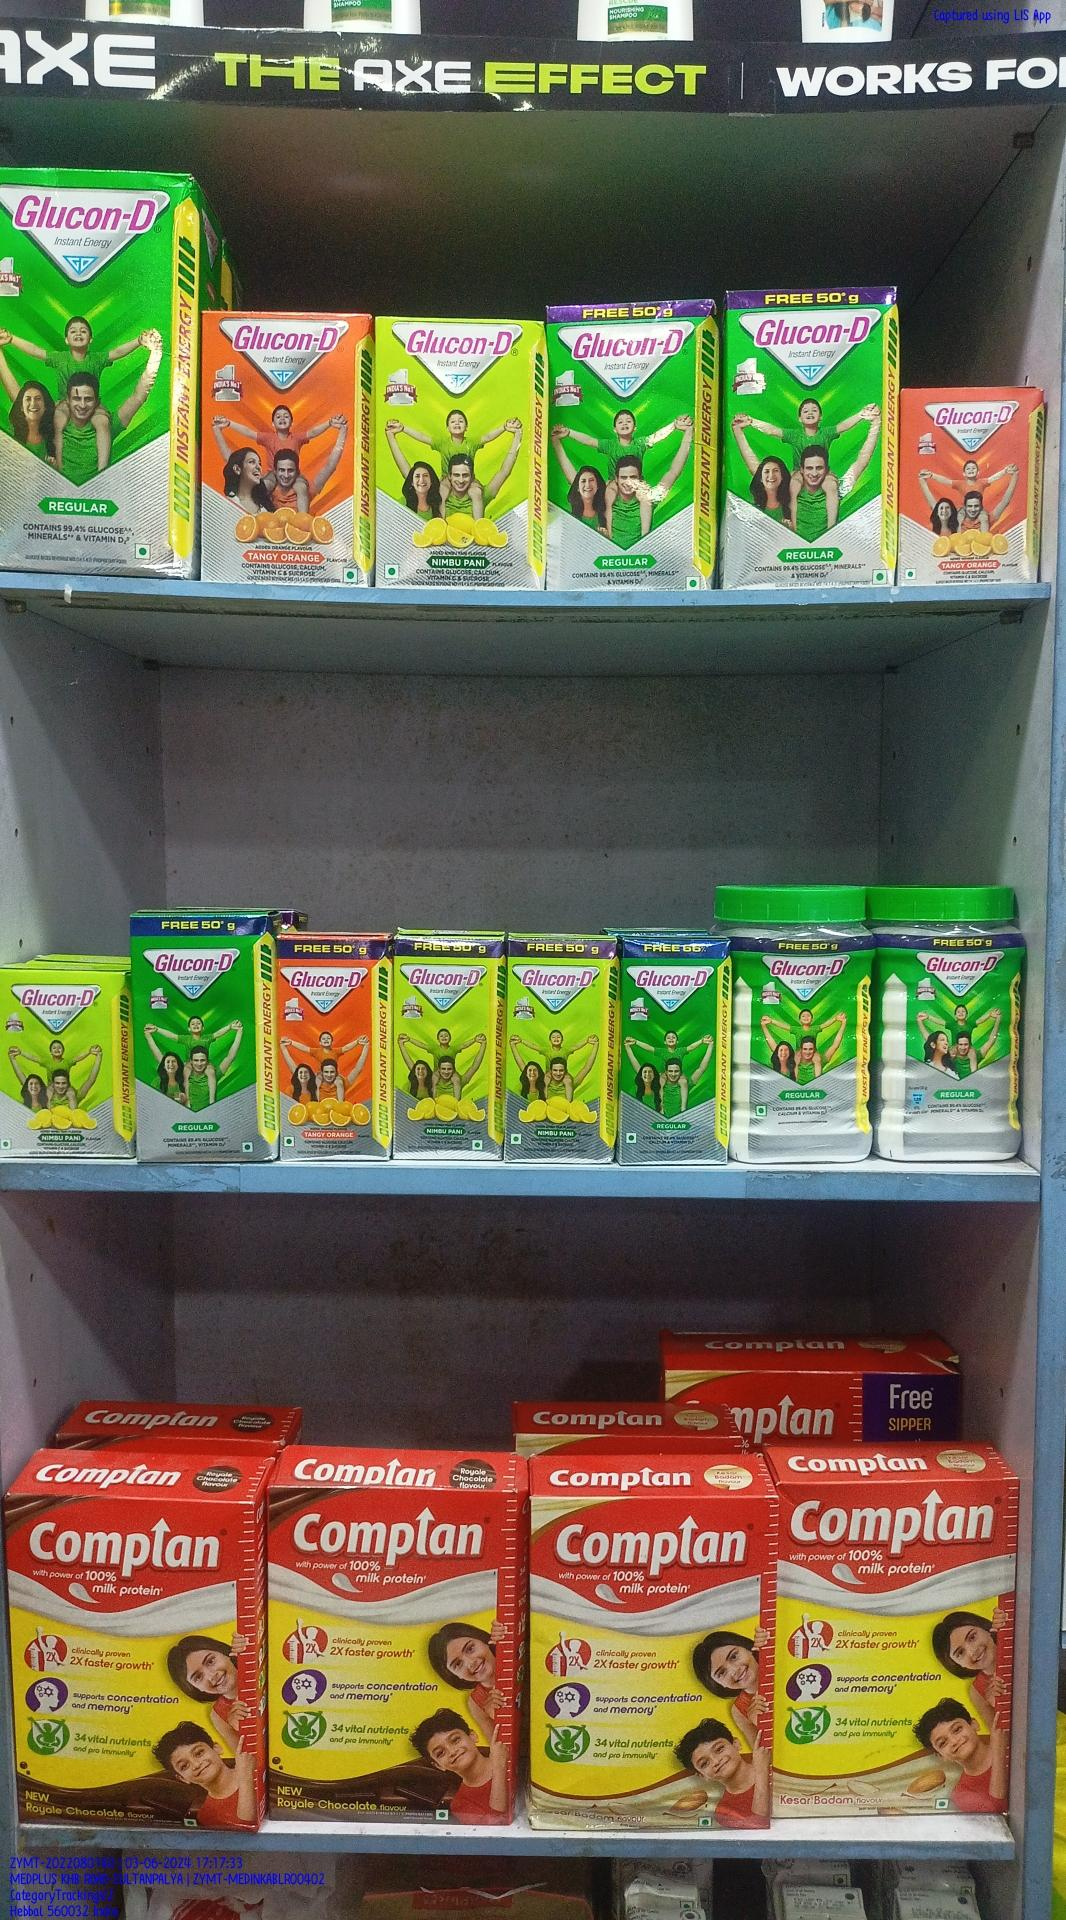COMPLAN_CHOCOLATE_500_GMS_PACK: (268, 1488, 515, 1832), (7, 1495, 256, 1832)
COMPLAN_KESAR_BADAM_500_GMS_PACK: (534, 1500, 776, 1832), (778, 1484, 1007, 1818)
